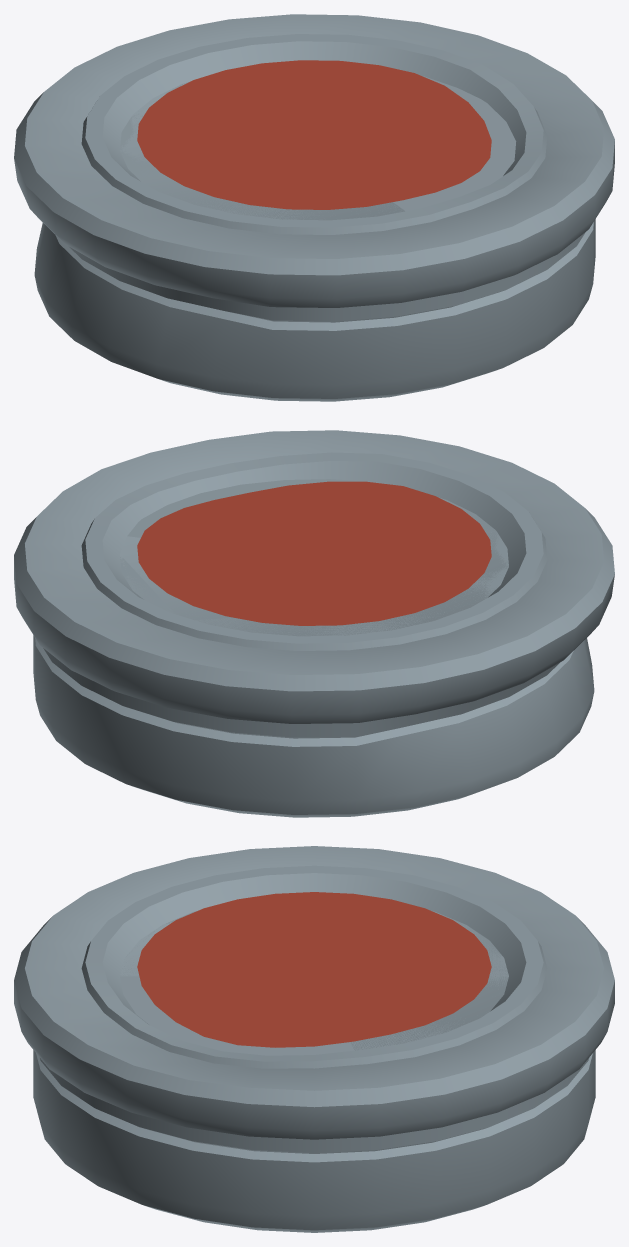
Rendered from film_can_3.glb.
The picture shows the model from 3 angles, top to bottom: view 1: azimuth 30°, elevation 25°; view 2: azimuth 150°, elevation 25°; view 3: azimuth 270°, elevation 25°; orthographic projection.
Visible parts, largest first — view 1: film_can_3; view 2: film_can_3; view 3: film_can_3.
Part boxes in pixels (x1,y1,x2,y2): film_can_3: (14, 14, 614, 401); film_can_3: (14, 430, 614, 817); film_can_3: (14, 846, 614, 1232).
Size of the model in its own units: 0.139 by 0.0415 by 0.139.
